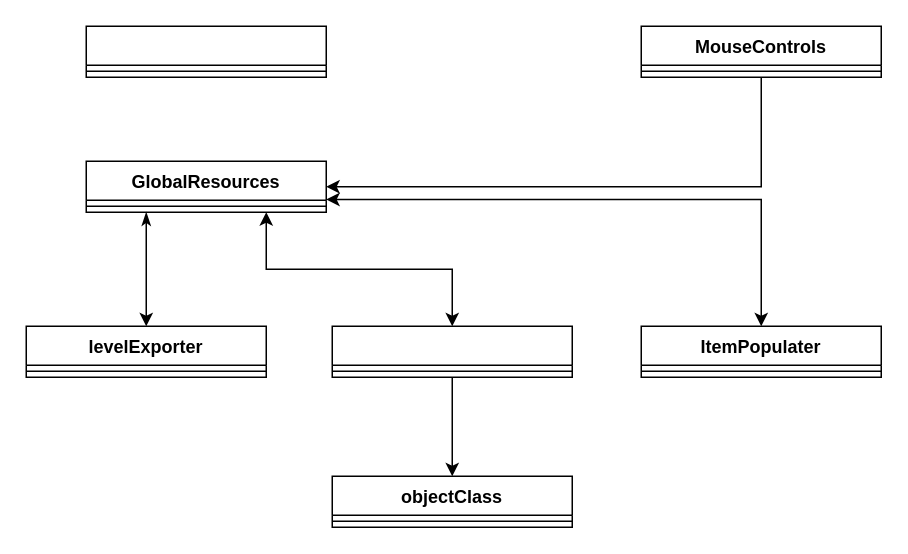
Some shapes in this 908 by 554 pixel diagram are drawn without their labels. The shapes that lost their labels are listed below. From the top down, each one's box as (x1, y1, x2, y2) in pixels, then its label:
(85, 25, 326, 77): cameraMovement
(331, 325, 572, 377): levelImporter
